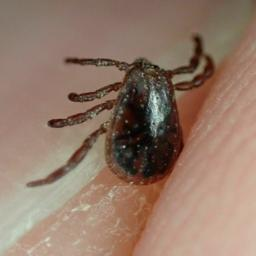Rhipicephalus sanguineus: (24, 31, 215, 188)
